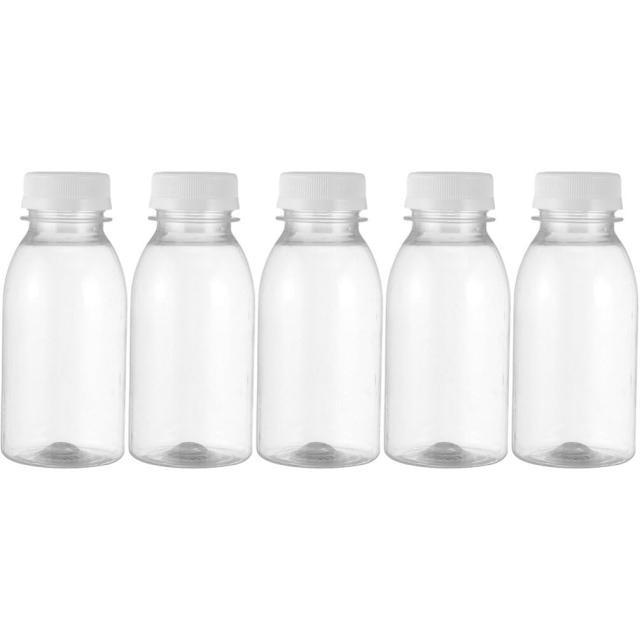bottle: (512, 172, 638, 468), (1, 172, 126, 468), (258, 171, 382, 468), (130, 172, 254, 468), (385, 172, 509, 468)
